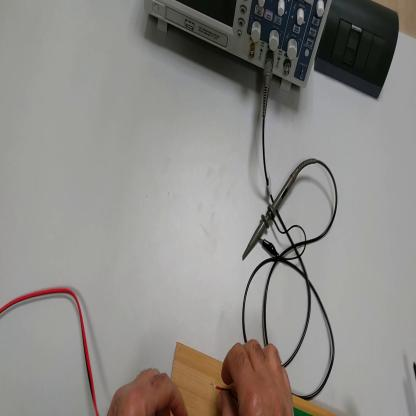hand: (218, 340, 295, 413), (110, 371, 187, 415)
high voltage board: (211, 384, 309, 416)
oscilloscope: (142, 2, 333, 92)
oscilloscope probe tip: (243, 172, 298, 259)
working area: (168, 342, 336, 416)
